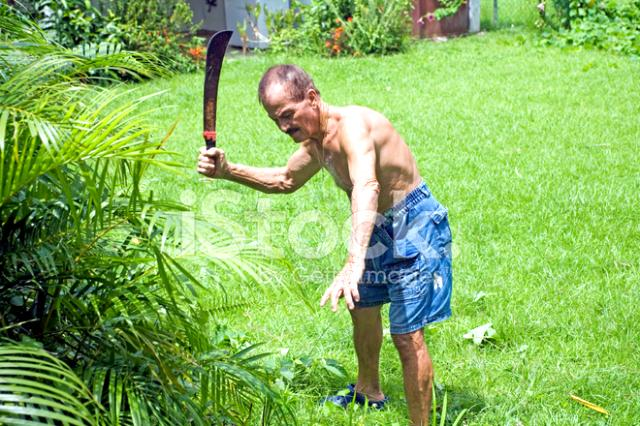long knife: (193, 19, 240, 183)
